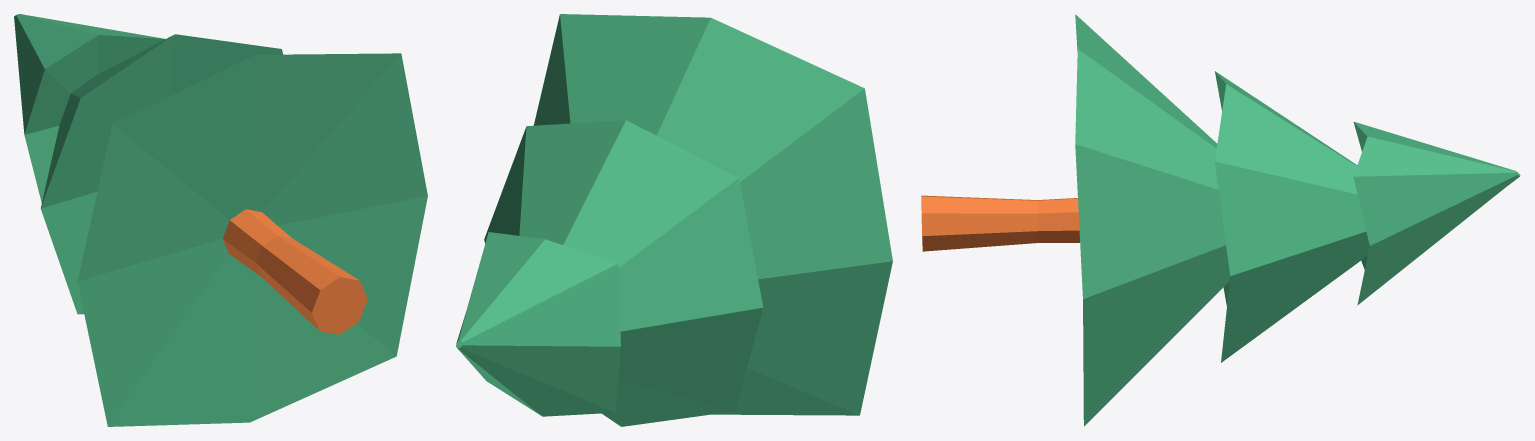
Rendered from Tree Low Poly Pine 1.fbx.
3 renders of one model, left to right at view 1: azimuth 30°, elevation 25°; view 2: azimuth 150°, elevation 25°; view 3: azimuth 270°, elevation 25°, orthographic. The views are drawn at different scales.
Parts seen in each view (by area): view 1: Cylinder; view 2: Cylinder; view 3: Cylinder.
Boxes of the visible parts, bbox=[...] form: Cylinder: bbox=[14, 14, 427, 426]; Cylinder: bbox=[456, 14, 892, 426]; Cylinder: bbox=[921, 14, 1520, 426].
Size of the model in its own units: 336 by 340 by 539.
